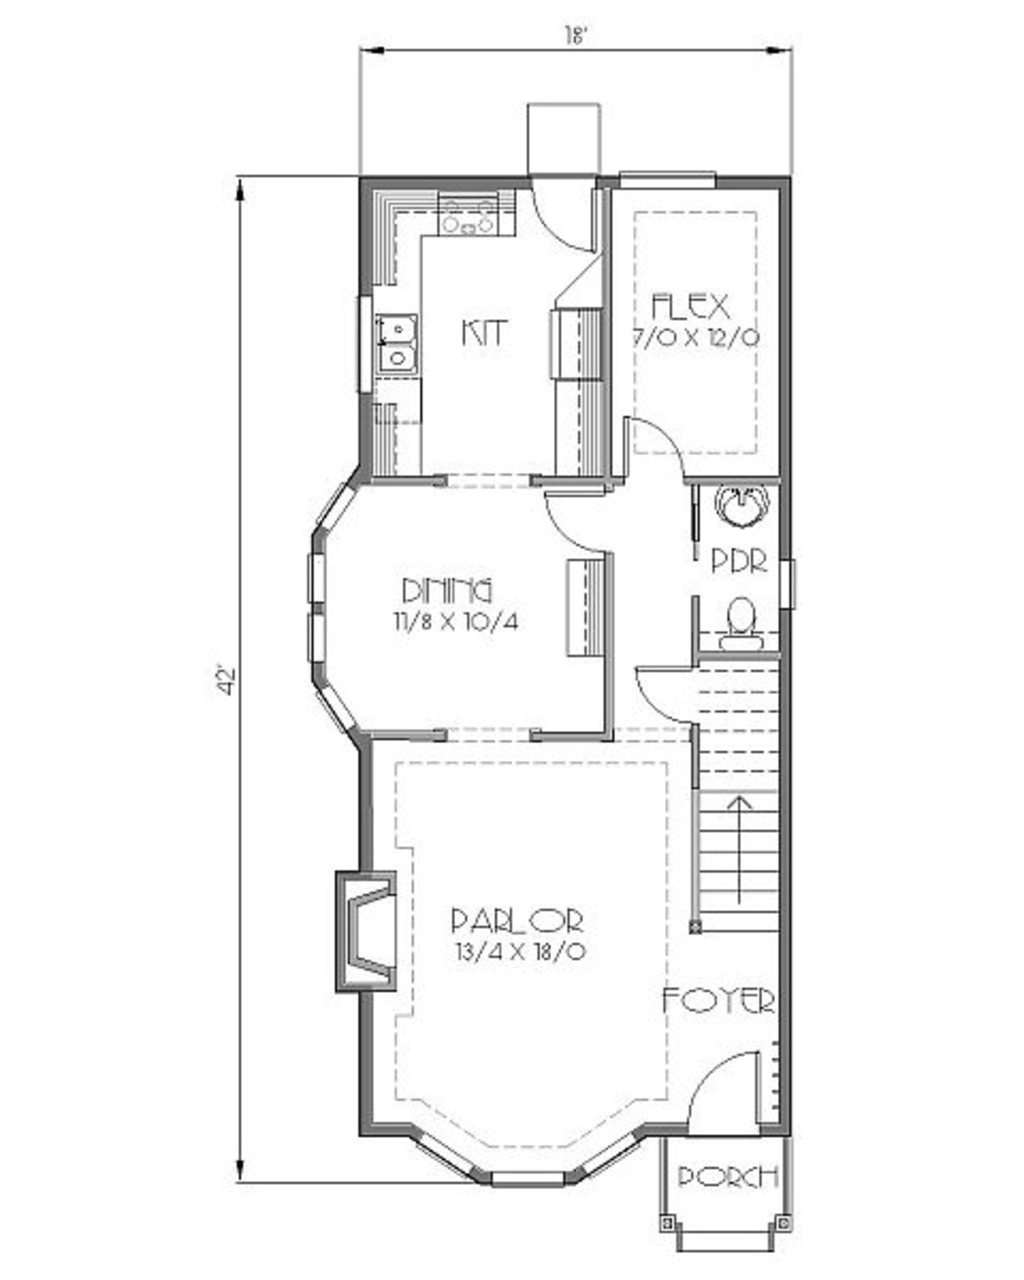door: (669, 1046, 801, 1156), (607, 650, 705, 732), (611, 402, 691, 486), (541, 480, 619, 556), (531, 178, 601, 252)
large_sink: (686, 576, 783, 656)
small_sink: (715, 482, 793, 534)
stairs: (686, 660, 775, 942)
twin_sink: (371, 308, 445, 382)
window: (491, 1130, 653, 1196), (293, 536, 341, 666), (321, 470, 373, 552), (615, 158, 725, 196), (417, 1132, 493, 1182), (321, 688, 359, 732)
